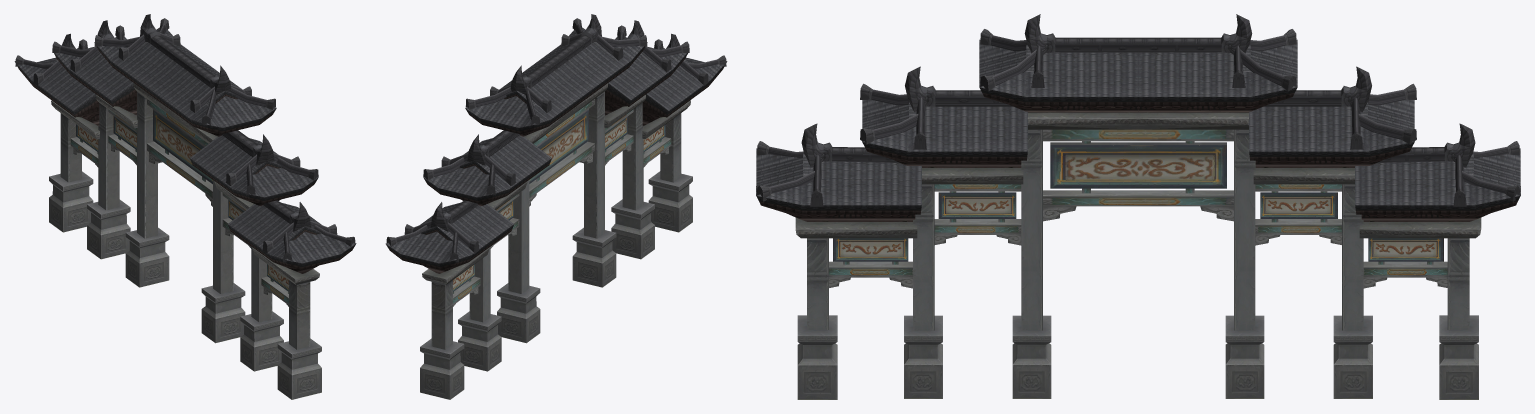
File: City_bujian_15.fbx
3 views of the same model, side by side, from view 1: azimuth 30°, elevation 25°; view 2: azimuth 150°, elevation 25°; view 3: azimuth 270°, elevation 25° (orthographic). The views are drawn at different scales.
Parts seen in each view (by area): view 1: City_1_2017_3_7_2:City_1_2017_3_7_2:City_1_2017_3_7_2:pasted, City_1_2017_3_7_2:group2; view 2: City_1_2017_3_7_2:City_1_2017_3_7_2:City_1_2017_3_7_2:pasted, City_1_2017_3_7_2:group2; view 3: City_1_2017_3_7_2:City_1_2017_3_7_2:City_1_2017_3_7_2:pasted, City_1_2017_3_7_2:group2.
Part boxes in pixels (bbox=[...]): City_1_2017_3_7_2:City_1_2017_3_7_2:City_1_2017_3_7_2:pasted: bbox=[49, 83, 321, 399]; City_1_2017_3_7_2:group2: bbox=[14, 14, 356, 273]; City_1_2017_3_7_2:City_1_2017_3_7_2:City_1_2017_3_7_2:pasted: bbox=[420, 83, 692, 399]; City_1_2017_3_7_2:group2: bbox=[385, 14, 727, 273]; City_1_2017_3_7_2:City_1_2017_3_7_2:City_1_2017_3_7_2:pasted: bbox=[795, 112, 1481, 399]; City_1_2017_3_7_2:group2: bbox=[756, 14, 1520, 221].
Bounding box in the file's own units: 3.63 × 12.45 × 22.97.
